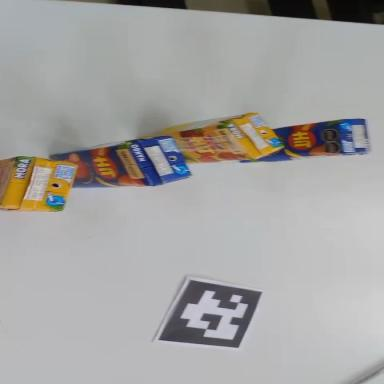HIT-MANGO: (50, 136, 190, 187), (239, 117, 370, 164)
HIT-MORA: (158, 107, 285, 177), (0, 153, 76, 218)
cara_F: (50, 143, 153, 189), (237, 120, 344, 163), (160, 122, 255, 166), (0, 151, 18, 201)
